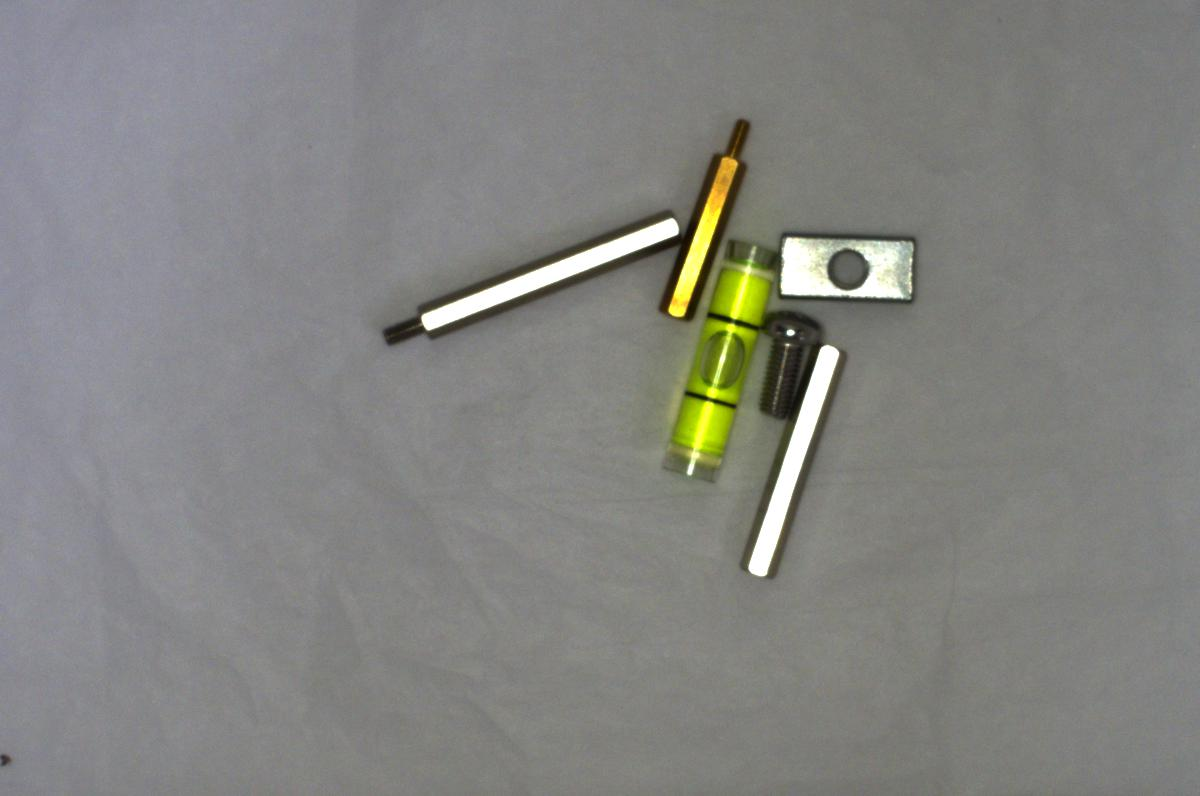Double hexagonal column: (726, 342, 852, 586)
Hexagon pillar: (657, 113, 752, 322)
Hexagonal steel column: (380, 205, 677, 348)
Horizontal bubble: (662, 236, 772, 480)
Rectangular nut: (770, 225, 925, 310)
Round head screw: (759, 307, 820, 414)
